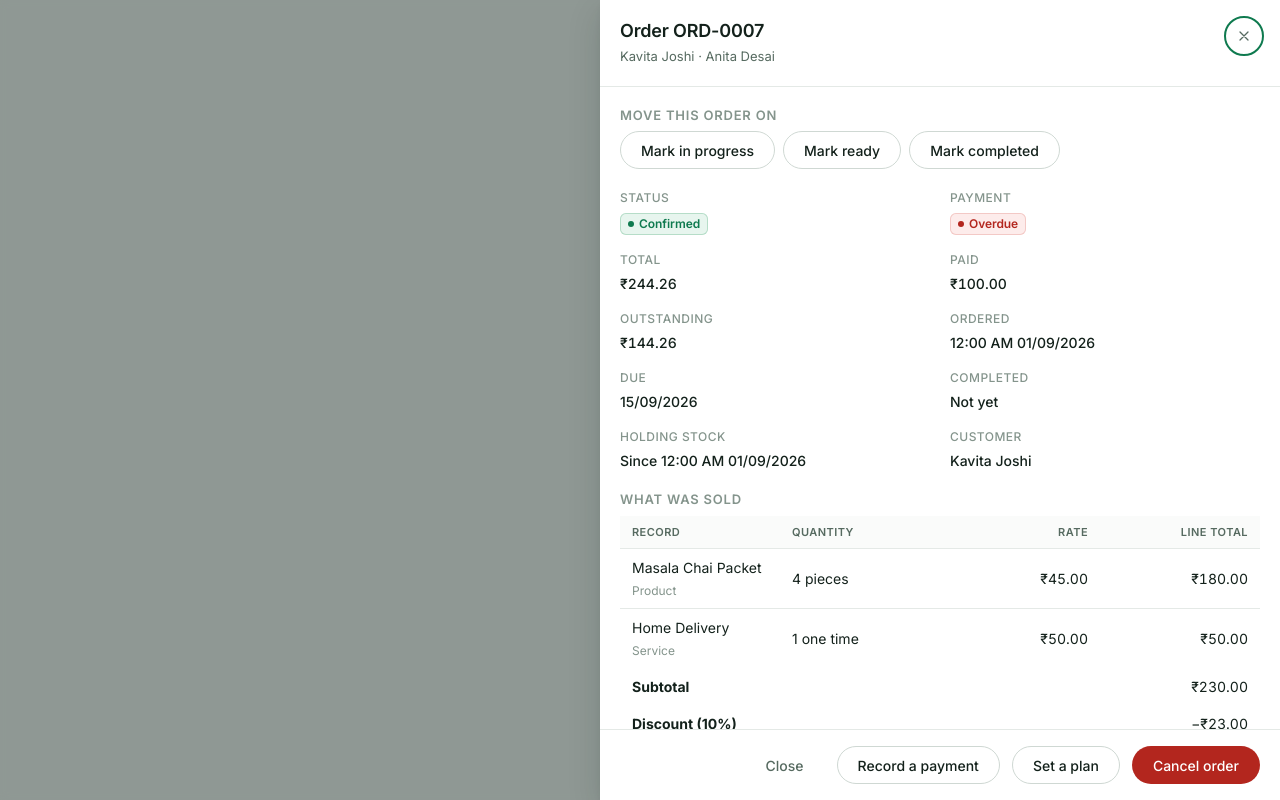
Test: OrderDetailPanel › warns that cancelling puts the stock back
The image size is (1280, 800).
Expected: the text "Masala Chai Packet" is shown, [632,557,768,578]
Click the button "Cancel order": (1196, 765) [1132,746,1260,784]
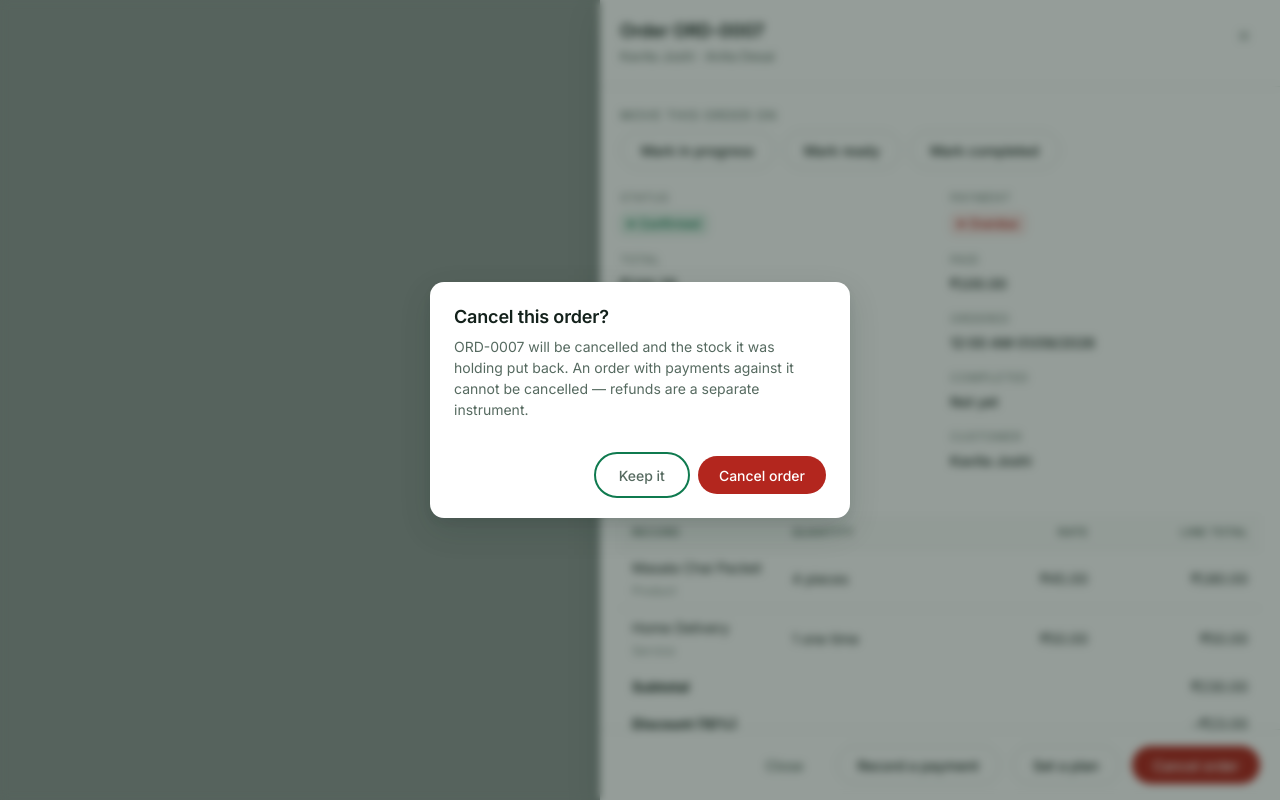
Expected: the text "stock it was holding put back" is shown, [454,338,794,418]
